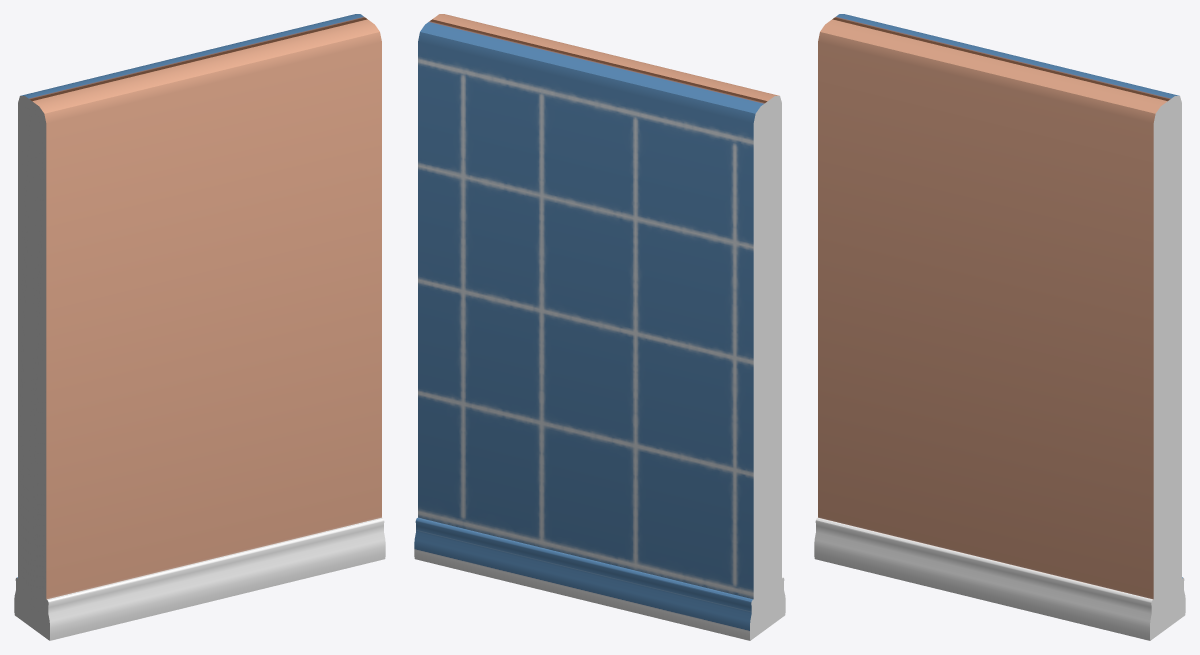
The model's file is Wall_inner_flat_03.fbx.
3 views of the same model, side by side, from view 1: azimuth 30°, elevation 25°; view 2: azimuth 150°, elevation 25°; view 3: azimuth 330°, elevation 25° (orthographic).
Parts seen in each view (by area): view 1: InnerWall_Hor_00.001; view 2: InnerWall_Hor_00.001; view 3: InnerWall_Hor_00.001.
Boxes of the visible parts, x1,y1,x2,y2 form: InnerWall_Hor_00.001: (14,14,385,640); InnerWall_Hor_00.001: (414,14,785,640); InnerWall_Hor_00.001: (814,14,1185,640).
Bounding box in the file's own units: 99.99 × 150 × 18.49.
